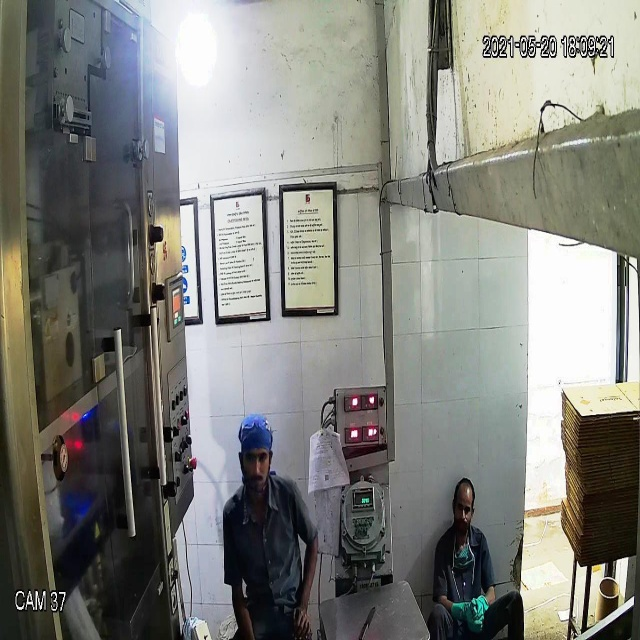Sin_gafas: (236, 443, 276, 472), (449, 498, 478, 522)
